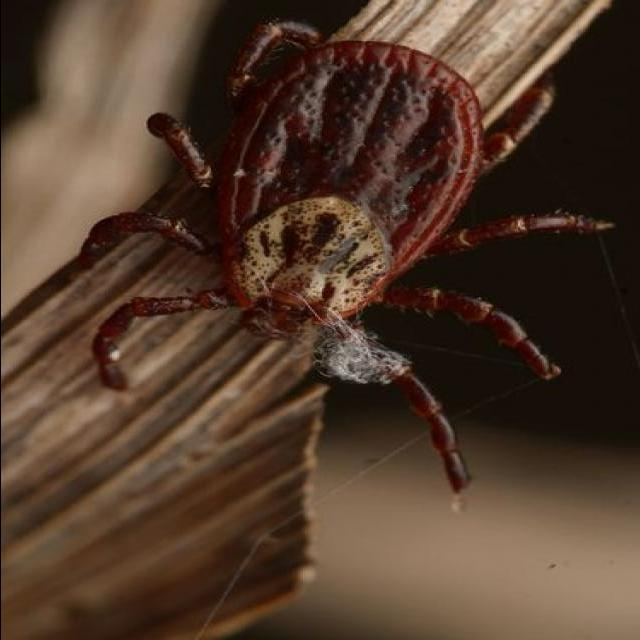Dermacentor Reticulatus-F: (82, 20, 614, 495)
